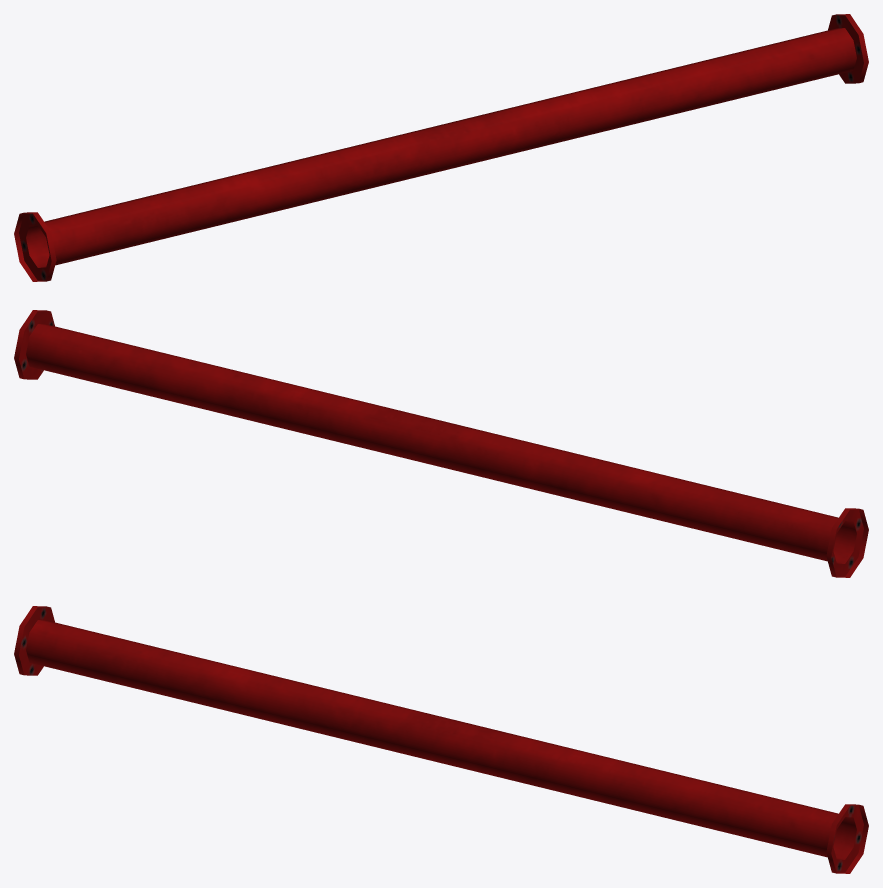
Rendered from PipeSmall_1m.FBX.
3 views of the same model, one above another, from view 1: azimuth 30°, elevation 25°; view 2: azimuth 150°, elevation 25°; view 3: azimuth 330°, elevation 25° (orthographic).
Parts seen in each view (by area): view 1: PipeSmall_1m; view 2: PipeSmall_1m; view 3: PipeSmall_1m.
Part boxes in pixels (left/top/right/bottom): PipeSmall_1m: left=14, top=14, right=868, bottom=281; PipeSmall_1m: left=14, top=310, right=868, bottom=577; PipeSmall_1m: left=14, top=606, right=868, bottom=873.
Size of the model in its own units: 39.37 by 3.15 by 3.15.
